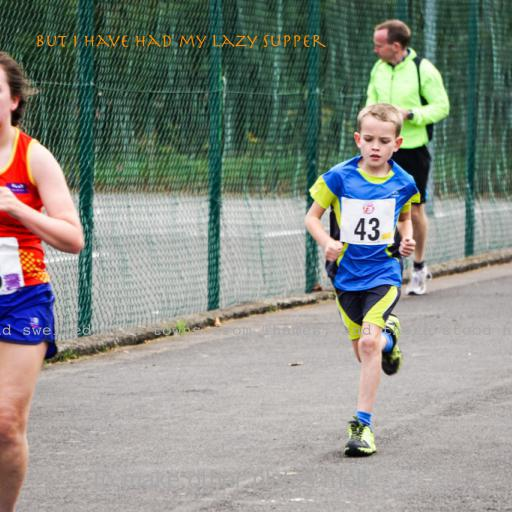Courier: (0, 323, 512, 338)
Herculanum: (34, 34, 326, 49)
Tahoma: (88, 469, 370, 493)
